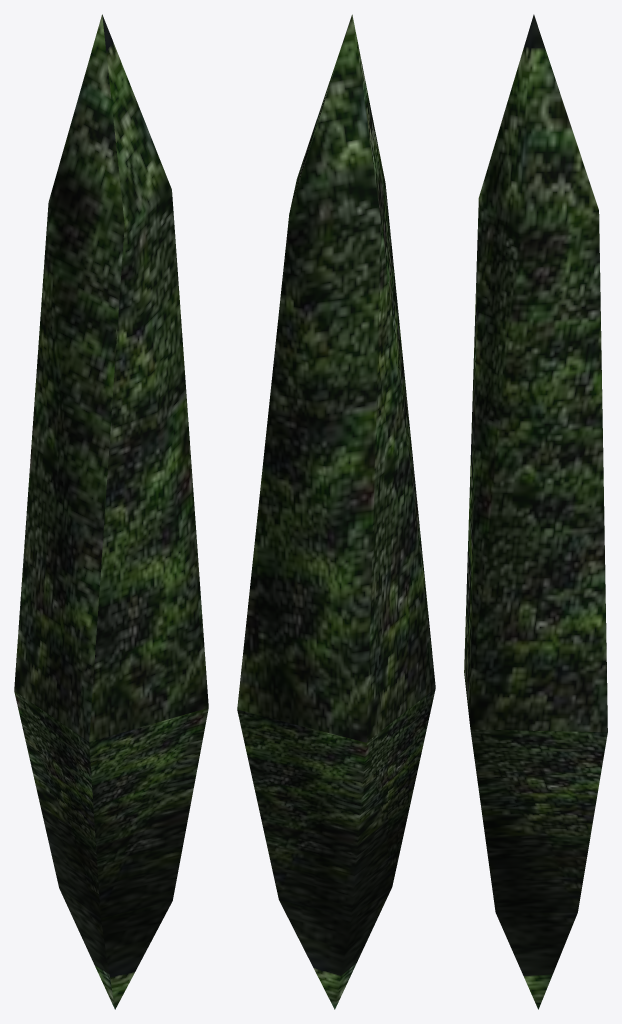
File: tree_cypress_xlarge.glb
The picture shows the model from 3 angles, left to right: view 1: azimuth 30°, elevation 25°; view 2: azimuth 150°, elevation 25°; view 3: azimuth 270°, elevation 25°; orthographic projection.
Visible parts, largest first — view 1: tree_cypress_xlarge; view 2: tree_cypress_xlarge; view 3: tree_cypress_xlarge.
Part boxes in pixels (left/top/right/bottom): tree_cypress_xlarge: left=14, top=14, right=208, bottom=1009; tree_cypress_xlarge: left=237, top=14, right=435, bottom=1009; tree_cypress_xlarge: left=464, top=14, right=607, bottom=1009.
Bounding box in the file's own units: 2.16 × 16 × 2.11.
Materials: 1 (1 with a texture image).
